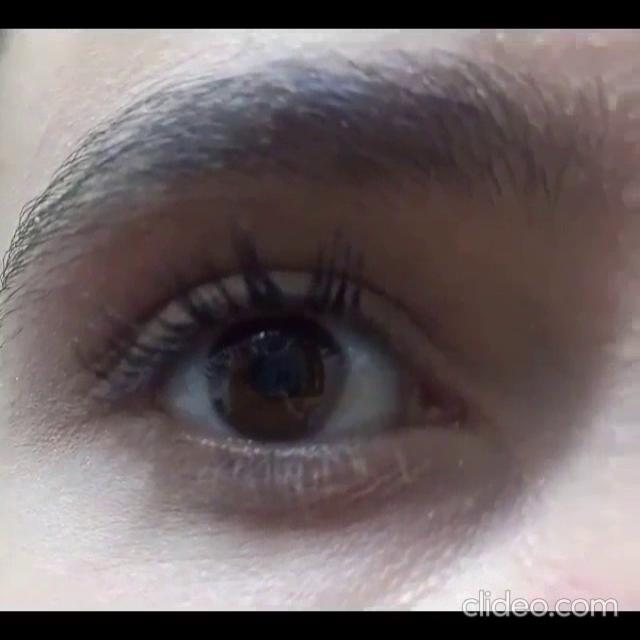iris: (206, 318, 348, 441)
pupille: (244, 350, 300, 402)
